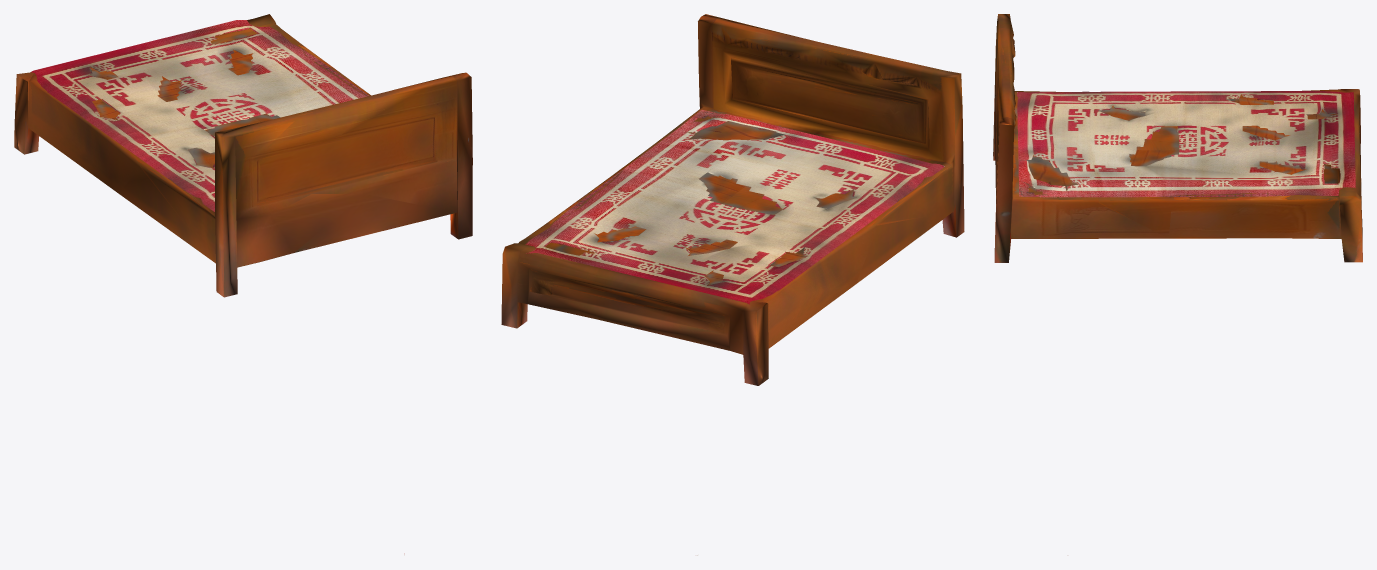
The model's file is Vietnamese bed.fbx.
3 renders of one model, left to right at view 1: azimuth 30°, elevation 25°; view 2: azimuth 150°, elevation 25°; view 3: azimuth 270°, elevation 25°, orthographic. The views are drawn at different scales.
Parts seen in each view (by area): view 1: vietnamese bed, Plane.001; view 2: vietnamese bed, Plane.001; view 3: Plane.001, vietnamese bed.
Part boxes in pixels (x1,y1,x2,y2): vietnamese bed: (14,14,472,297); Plane.001: (31,20,404,555); vietnamese bed: (501,14,964,385); Plane.001: (525,110,944,555); Plane.001: (1017,91,1355,555); vietnamese bed: (993,14,1362,262).
Size of the model in its own units: 220 by 414 by 312.
